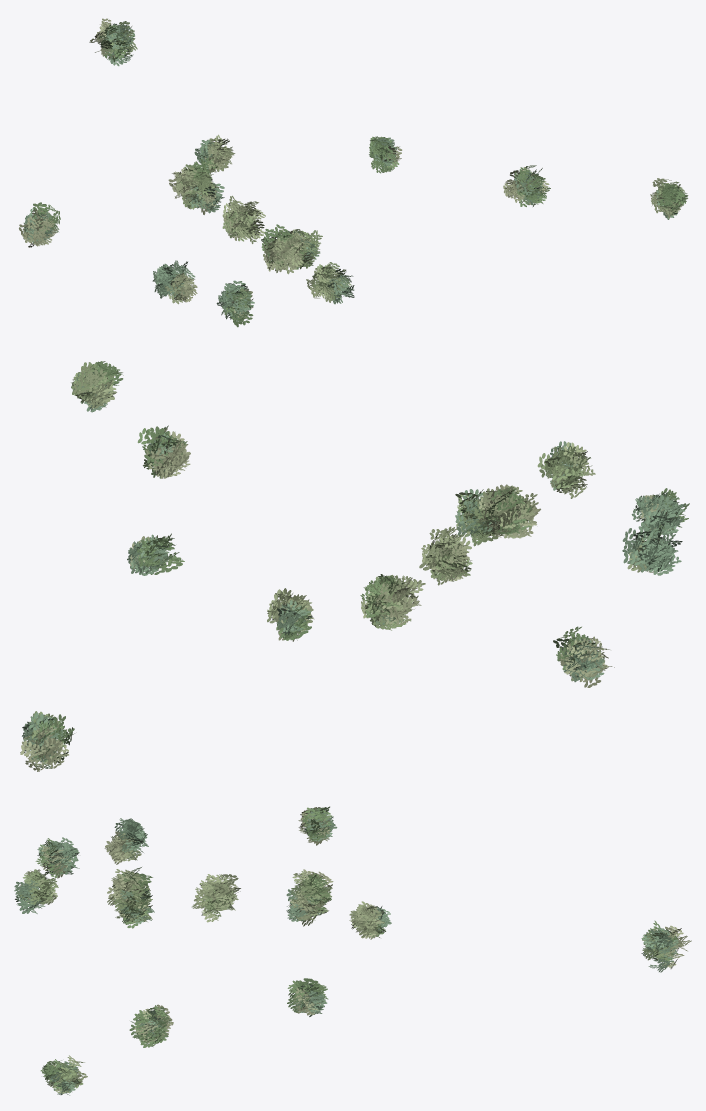
Rendered from campus-tree-2_-2-far.glb.
3 views of the same model, one above another, from view 1: azimuth 30°, elevation 25°; view 2: azimuth 150°, elevation 25°; view 3: azimuth 270°, elevation 25° (orthographic). The views are drawn at different scales.
Parts seen in each view (by area): view 1: Campus leaf canopy; view 2: Campus leaf canopy; view 3: Campus leaf canopy.
Part boxes in pixels (x1=…): Campus leaf canopy: x1=19, y1=18, x2=688, y2=327; Campus leaf canopy: x1=20, y1=361, x2=689, y2=771; Campus leaf canopy: x1=14, y1=806, x2=691, y2=1095.
Size of the model in its own units: 77.01 by 7.68 by 82.21.
Materials: 1 (1 with a texture image).
